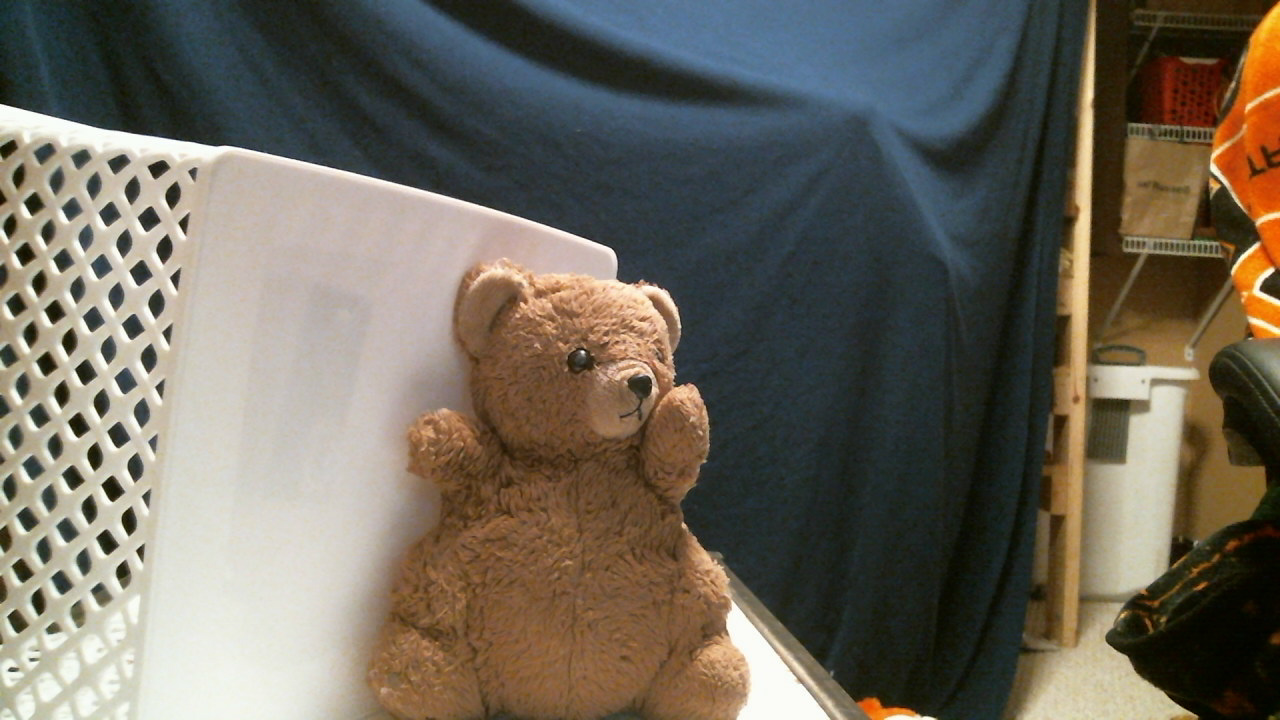Little_Mister_Bear: (576, 335, 676, 444)
